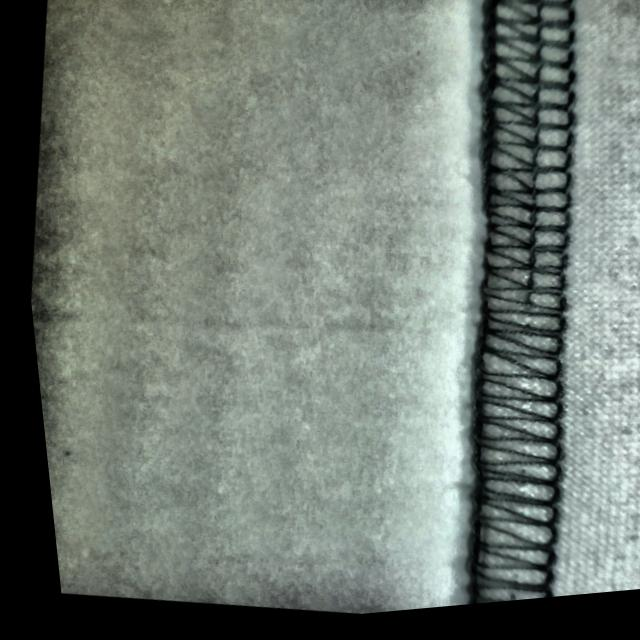Stitch: (407, 63, 620, 548)
